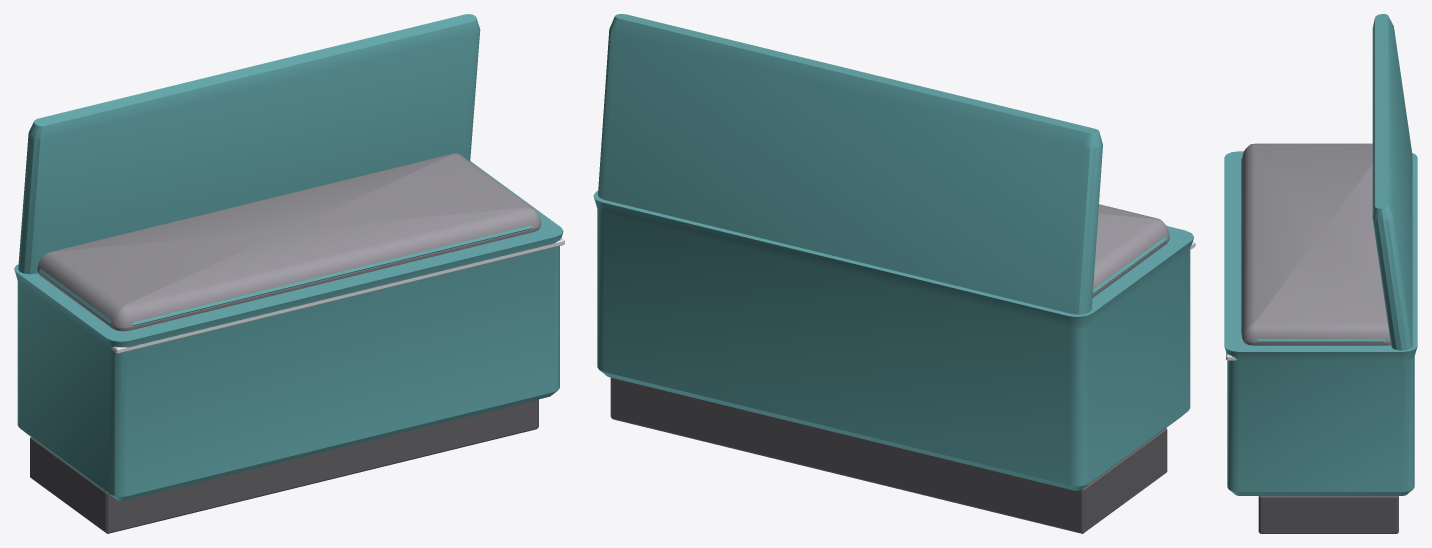
File: fast-food-and-drive-thru-moulded-bench-run-c32f7b42__16178.glb
3 views of the same model, side by side, from view 1: azimuth 30°, elevation 25°; view 2: azimuth 150°, elevation 25°; view 3: azimuth 270°, elevation 25° (orthographic). The views are drawn at different scales.
Parts seen in each view (by area): view 1: moulded-bench-run; view 2: moulded-bench-run; view 3: moulded-bench-run.
Part boxes in pixels (left/top/right/bottom): moulded-bench-run: left=14, top=14, right=564, bottom=533; moulded-bench-run: left=593, top=14, right=1195, bottom=533; moulded-bench-run: left=1224, top=14, right=1417, bottom=533.
Size of the model in its own units: 1.22 by 0.9287 by 0.496.
